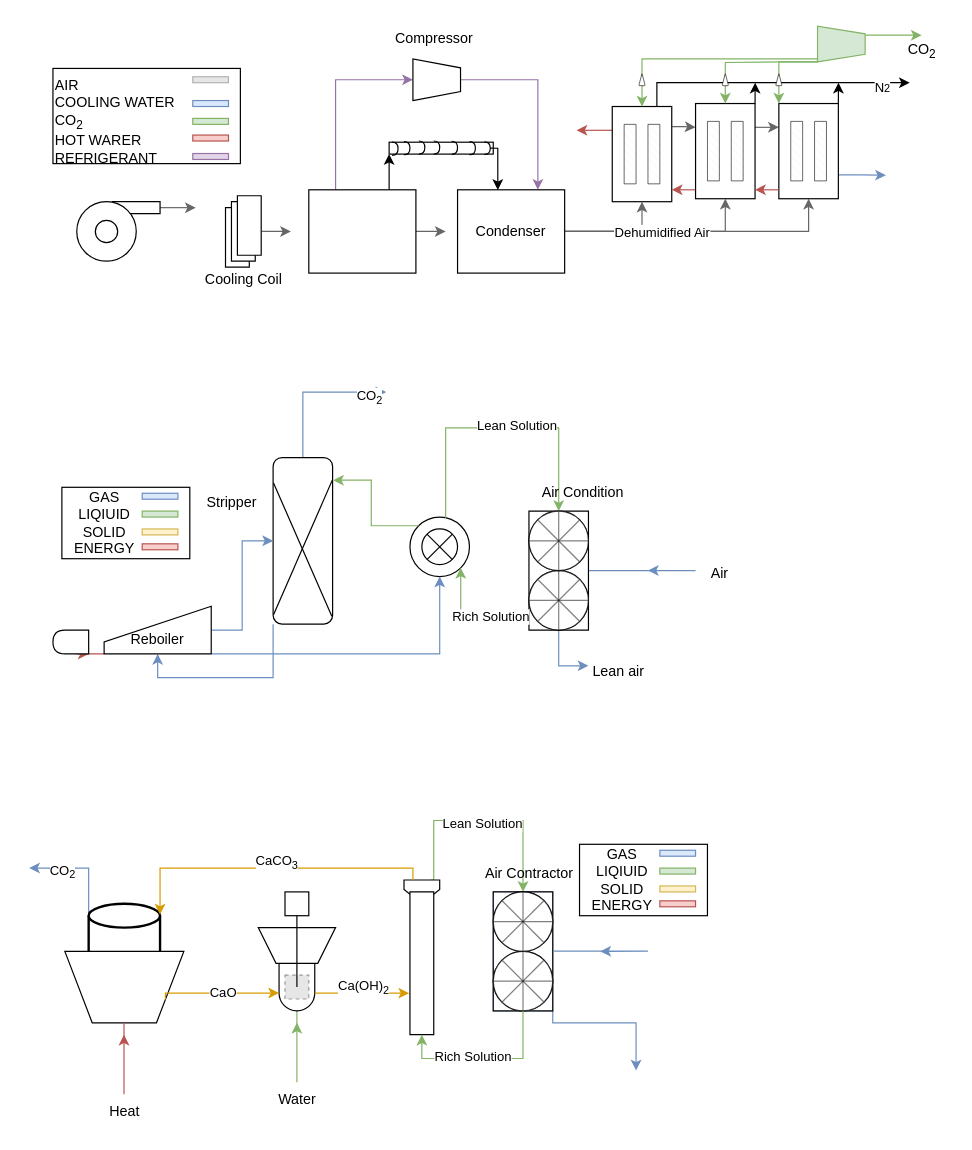
This 972x1150 diagram has some shape labels left out. Grey dashed boxes stand in for pictures. The shapes that lost their labels are listed below. From the top down, each one's box as (x1, y1, x2, y2) in pixels, then its label:
(308, 189, 416, 273): Evaporator
(87, 902, 161, 976): Calciner
